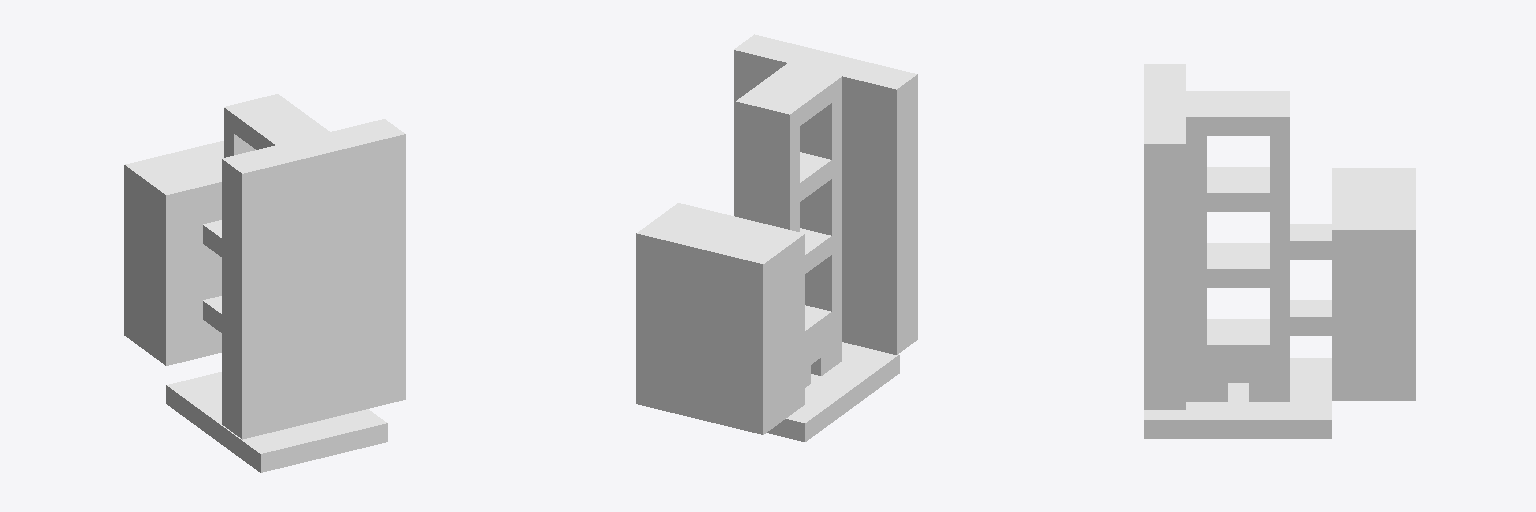
The model's file is vorsignal_boden.obj.
3 views of the same model, side by side, from view 1: azimuth 30°, elevation 25°; view 2: azimuth 150°, elevation 25°; view 3: azimuth 270°, elevation 25° (orthographic).
Visible parts, largest first — view 1: all; view 2: all; view 3: all.
Part boxes in pixels (left/top/right/bottom): all: left=124, top=94, right=405, bottom=472; all: left=636, top=34, right=917, bottom=441; all: left=1144, top=64, right=1415, bottom=438.
Size of the model in its own units: 0.9 by 1.6 by 1.3.